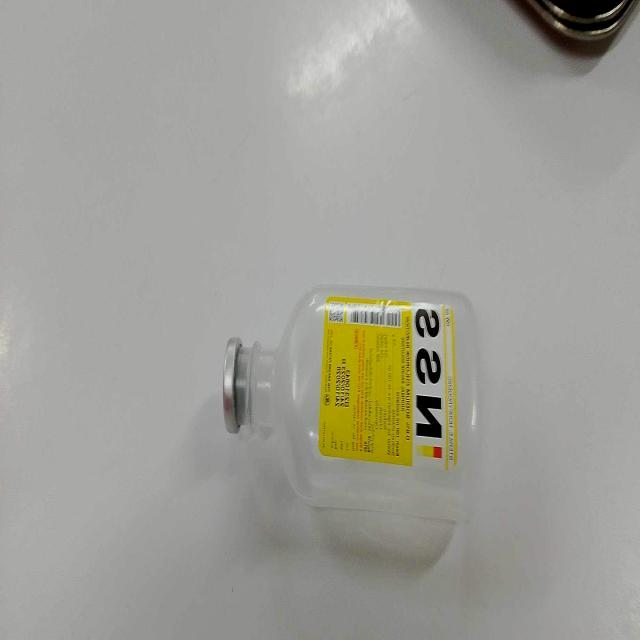General: (220, 282, 474, 565), (317, 295, 461, 471)
